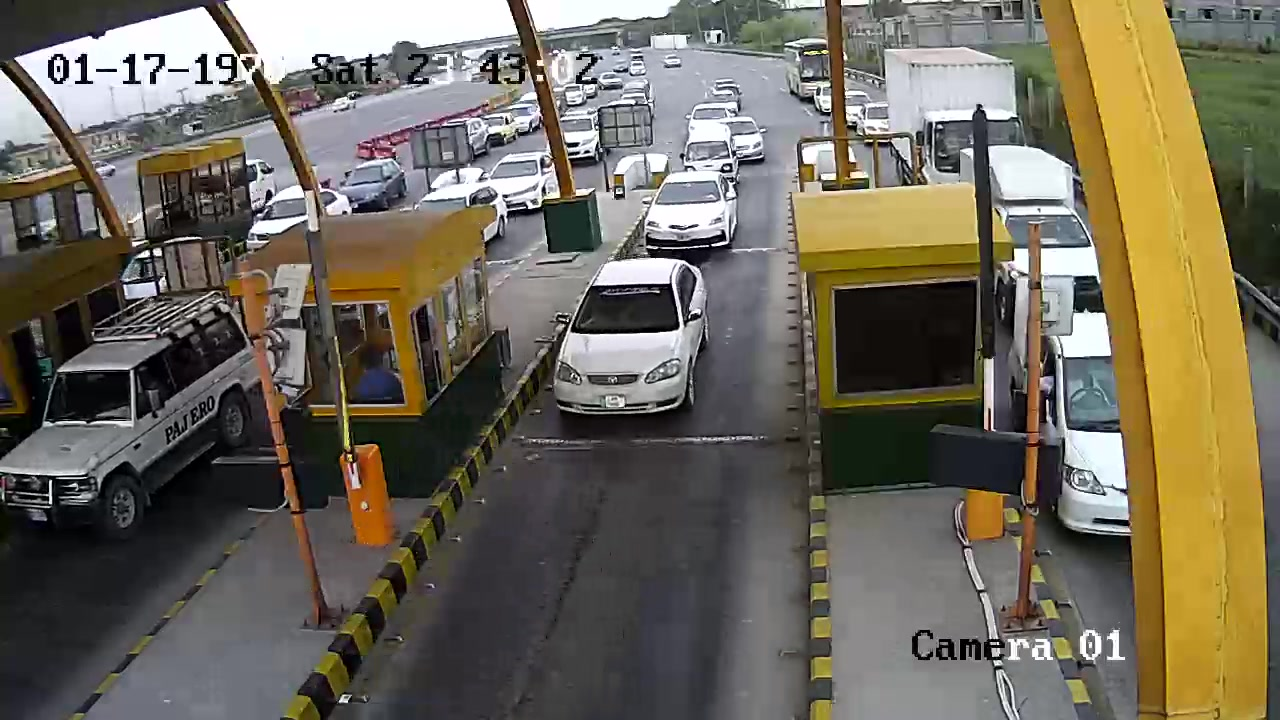F1: (545, 256, 722, 435)
